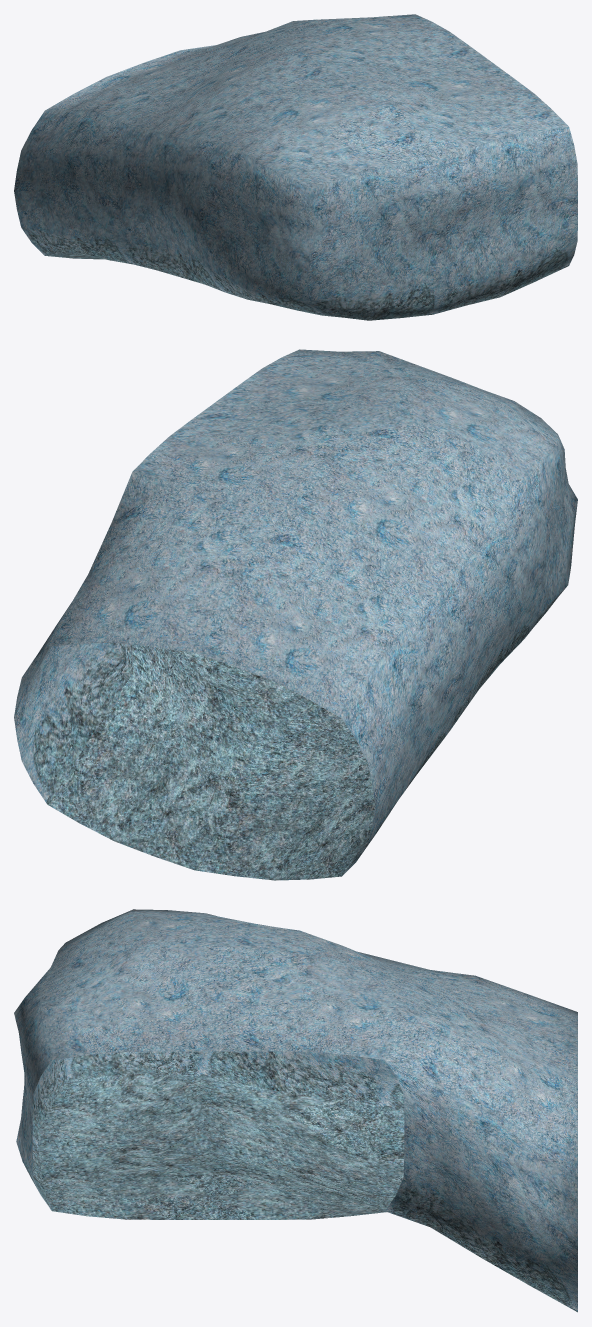
File: thm_all_cave_s03_ice_r21_r21.fbx
3 renders of one model, top to bottom at view 1: azimuth 30°, elevation 25°; view 2: azimuth 150°, elevation 25°; view 3: azimuth 270°, elevation 25°, orthographic. The views are drawn at different scales.
Visible parts, largest first — view 1: mesh_node; view 2: mesh_node; view 3: mesh_node.
Boxes of the visible parts, x1=… form: mesh_node: x1=14, y1=14, x2=577, y2=320; mesh_node: x1=14, y1=349, x2=577, y2=880; mesh_node: x1=14, y1=909, x2=577, y2=1312.
Bounding box in the file's own units: 17.9 × 15.47 × 24.28.
